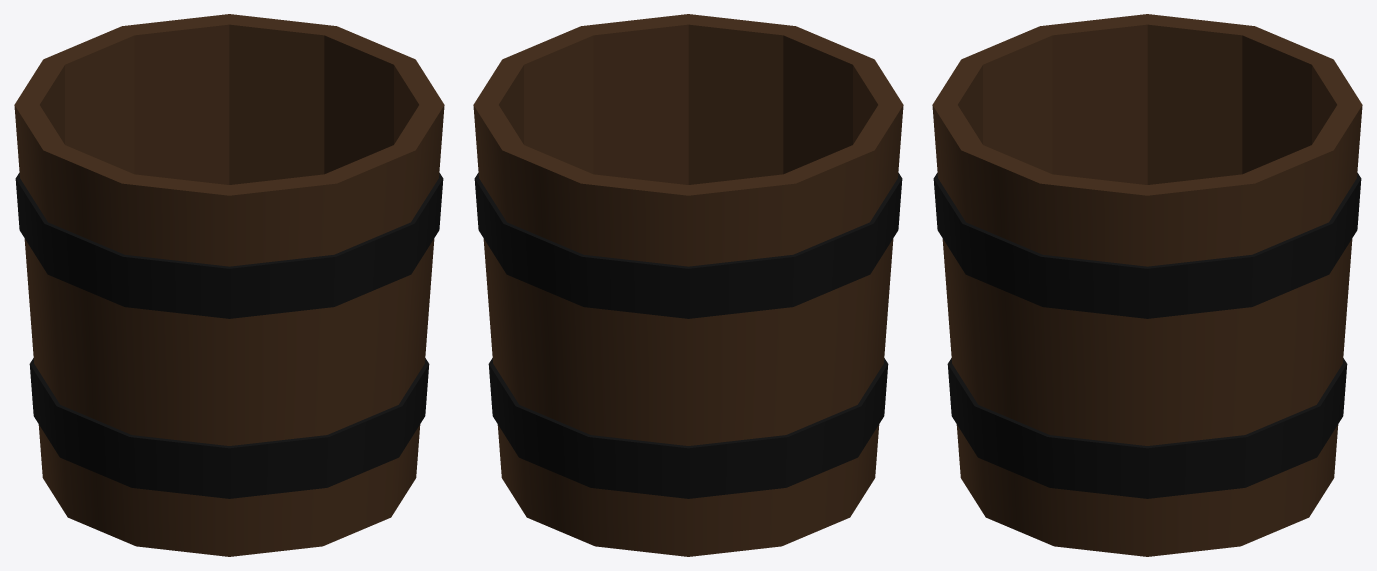
Rendered from Bucket.FBX.
The picture shows the model from 3 angles, left to right: view 1: azimuth 30°, elevation 25°; view 2: azimuth 150°, elevation 25°; view 3: azimuth 270°, elevation 25°; orthographic projection.
Parts seen in each view (by area): view 1: Cylinder001; view 2: Cylinder001; view 3: Cylinder001.
Boxes of the visible parts, left/top/right/bottom form: Cylinder001: left=14, top=14, right=444, bottom=556; Cylinder001: left=473, top=14, right=903, bottom=556; Cylinder001: left=932, top=14, right=1362, bottom=556.
Bounding box in the file's own units: 15.98 × 15.3 × 15.98.
